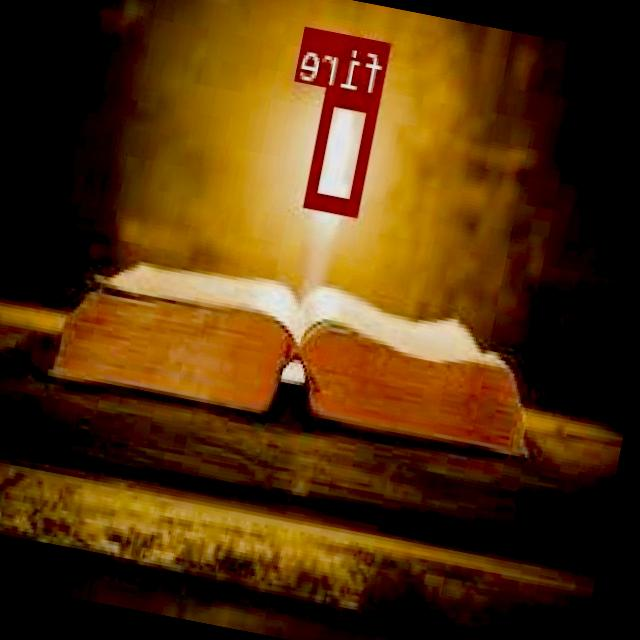fire: (306, 86, 383, 212)
